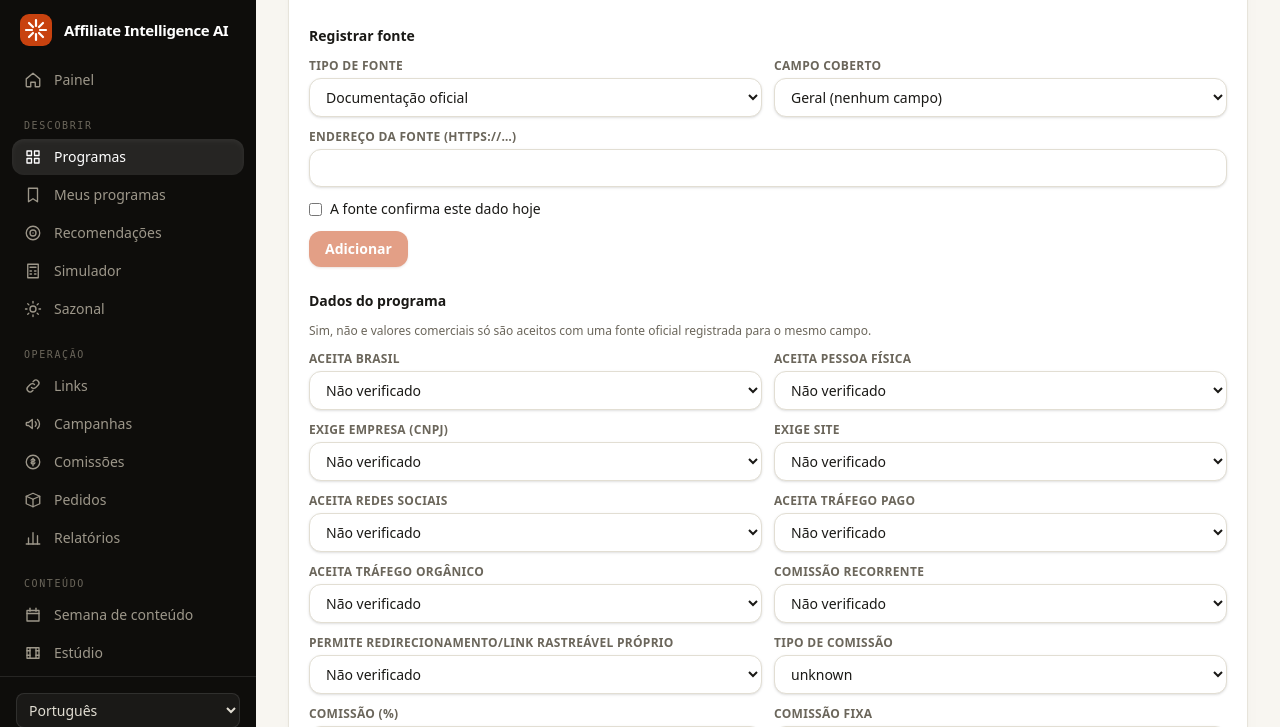
catálogo › editor vê o painel e a recusa por falta de fonte oficial aparece traduzida
(page scrolled)
Select "Sim" in the dropdown with id "d-accepts_brazil": [536, 390] box [309, 371, 762, 410]
(page scrolled)
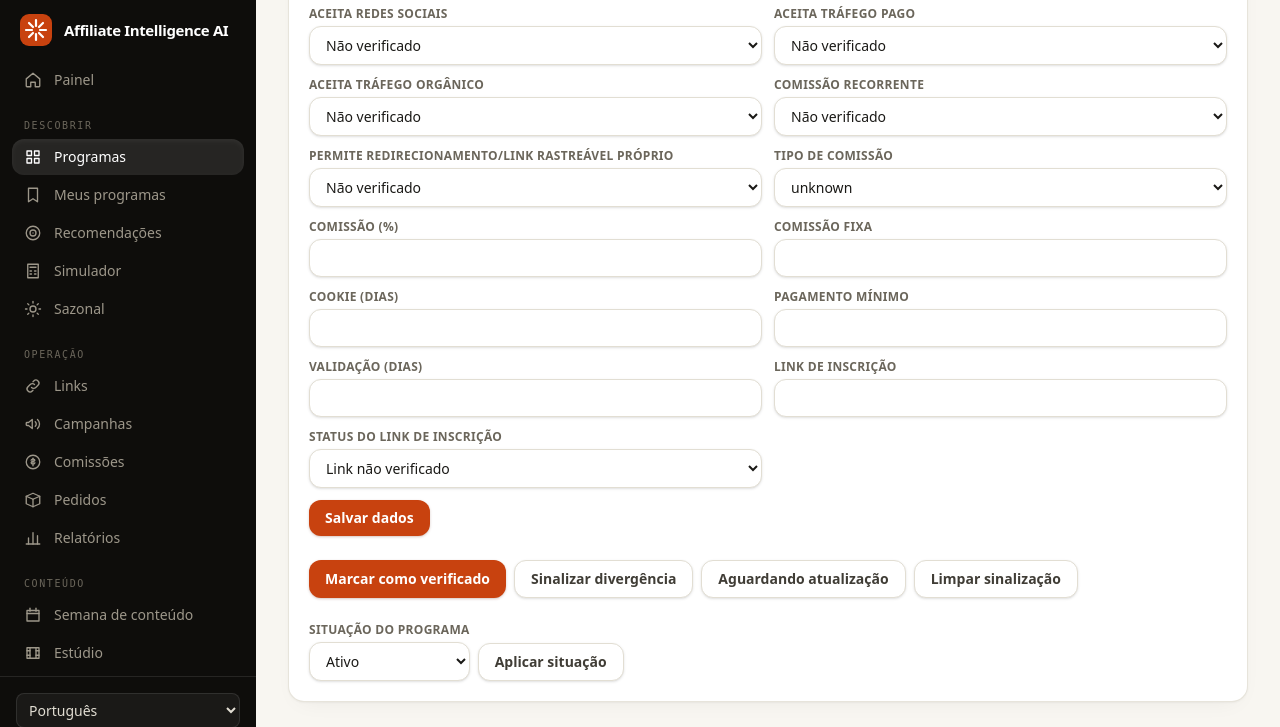
Click the button "Salvar dados": [369, 518] box [309, 500, 430, 536]
(page scrolled)
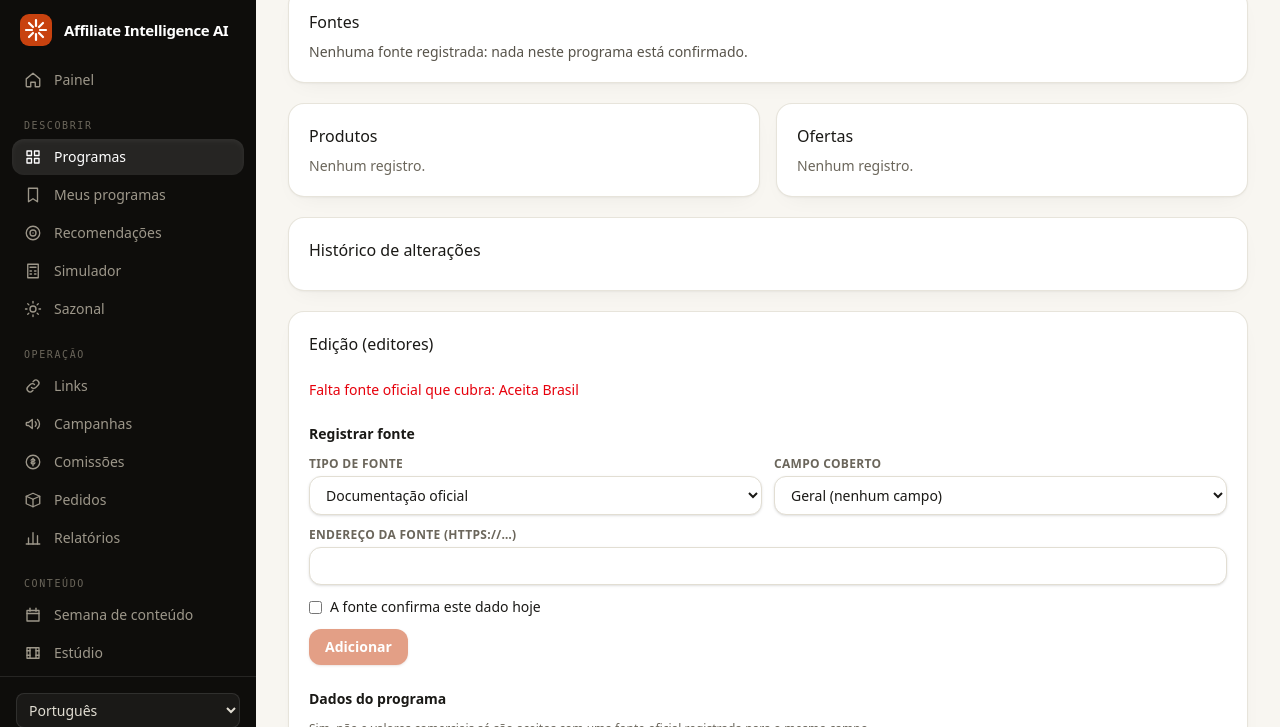
Now the message reads "Falta fonte oficial que cubra: Aceita Brasil", box [309, 380, 579, 399]
